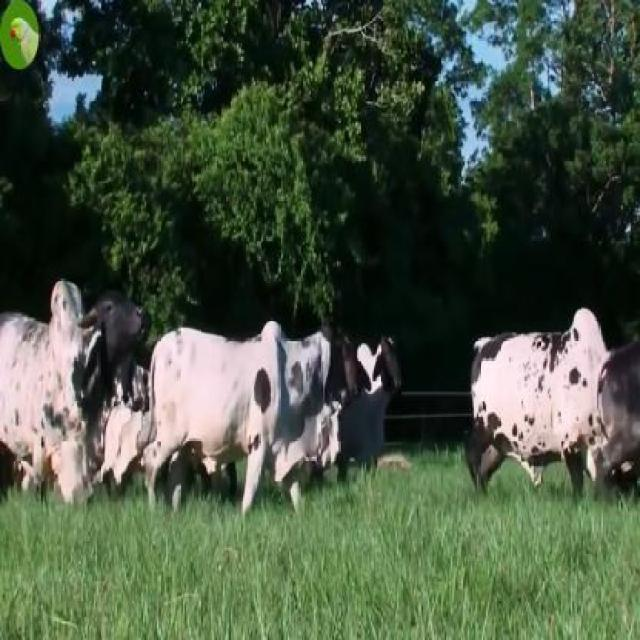Cow: (149, 322, 360, 522)
